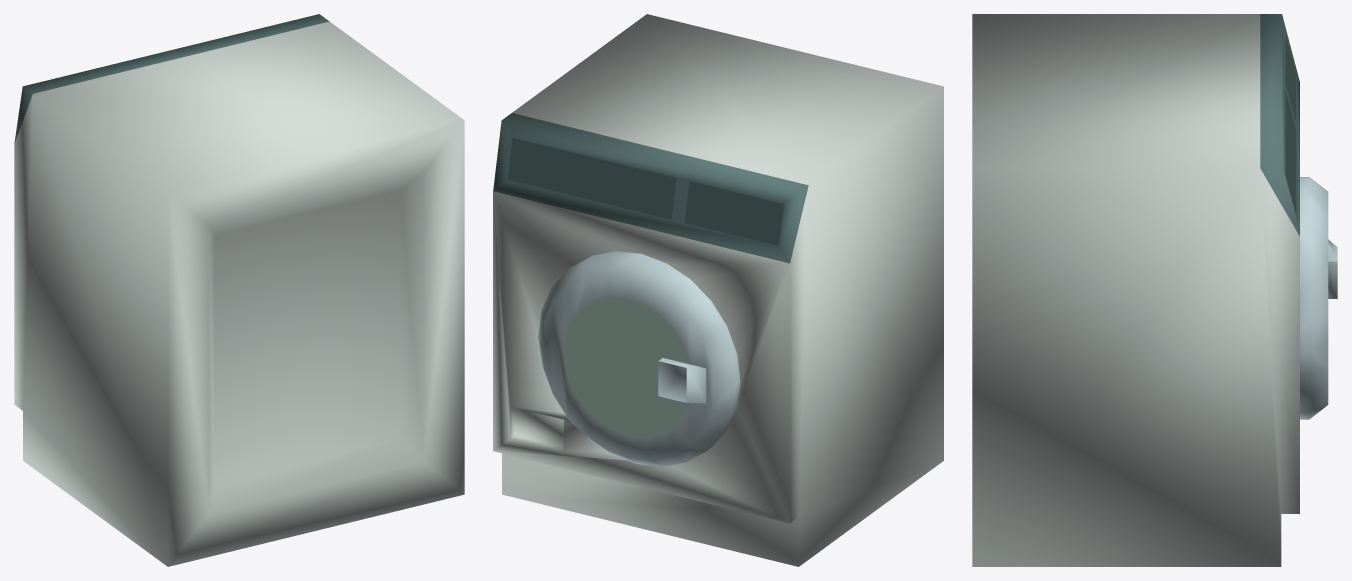
The model's file is Washer.glb.
3 renders of one model, left to right at view 1: azimuth 30°, elevation 25°; view 2: azimuth 150°, elevation 25°; view 3: azimuth 270°, elevation 25°, orthographic. The views are drawn at different scales.
Parts seen in each view (by area): view 1: washer; view 2: washer; view 3: washer.
Part boxes in pixels (box(x1,y1,x2,y2)): washer: box(14, 14, 464, 566); washer: box(493, 14, 943, 566); washer: box(972, 14, 1337, 566).
Bounding box in the file's own units: 0.39 × 0.47 × 0.39.
